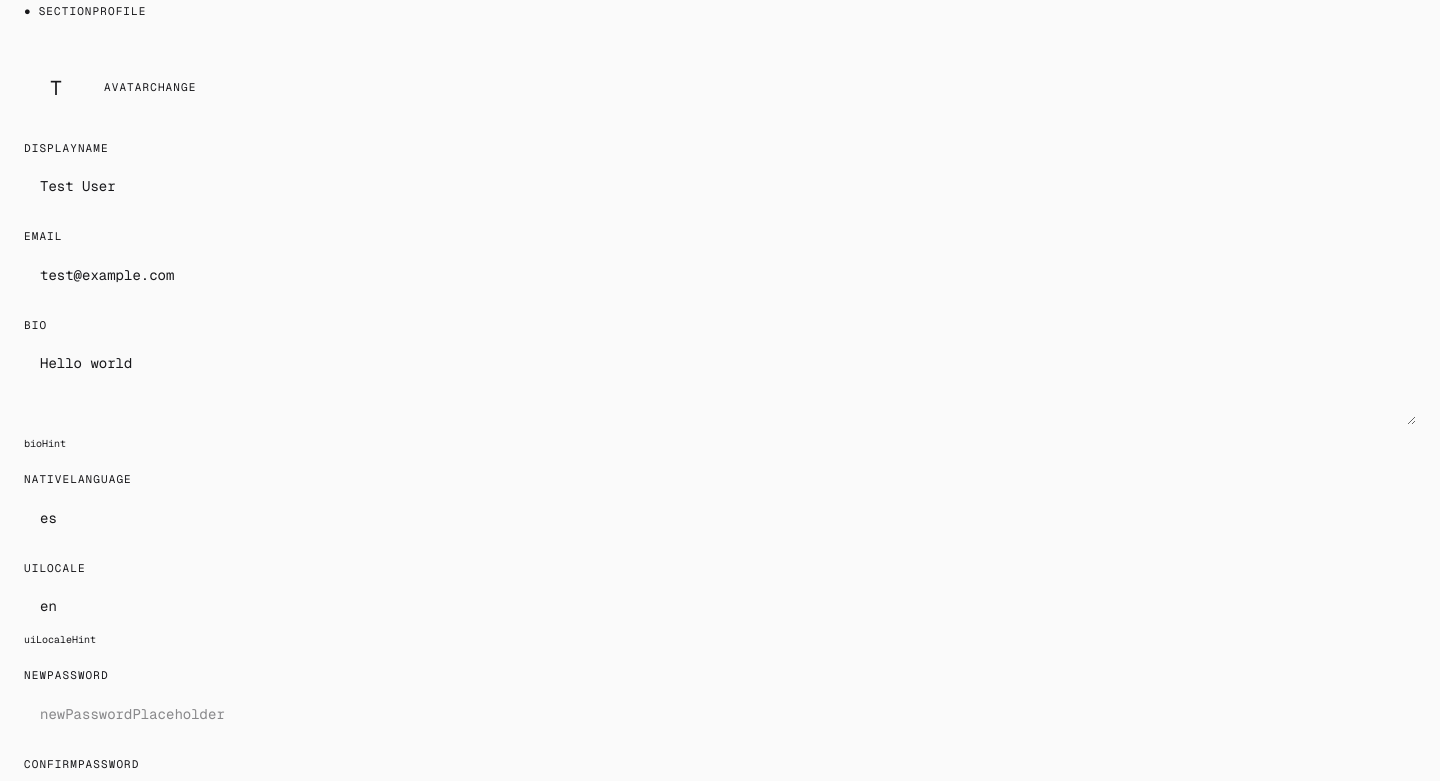
Scenario: ProfileSection › updates user in store after successful save
Replace the text in the field below "displayName" with "Updated Name" at (720, 186), box [24, 164, 1416, 208]
(page scrolled)
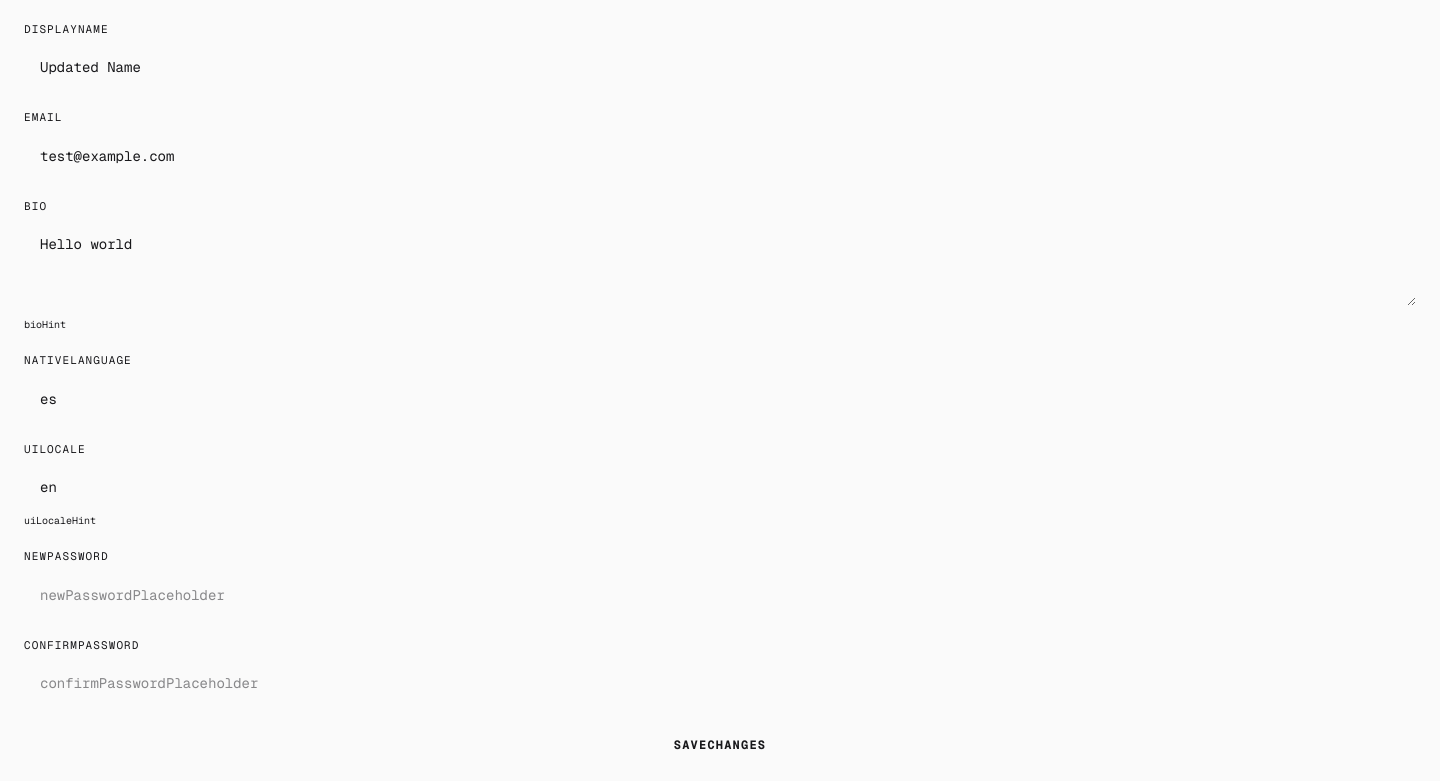
Click the button "saveChanges" at (720, 745), box [24, 725, 1416, 765]
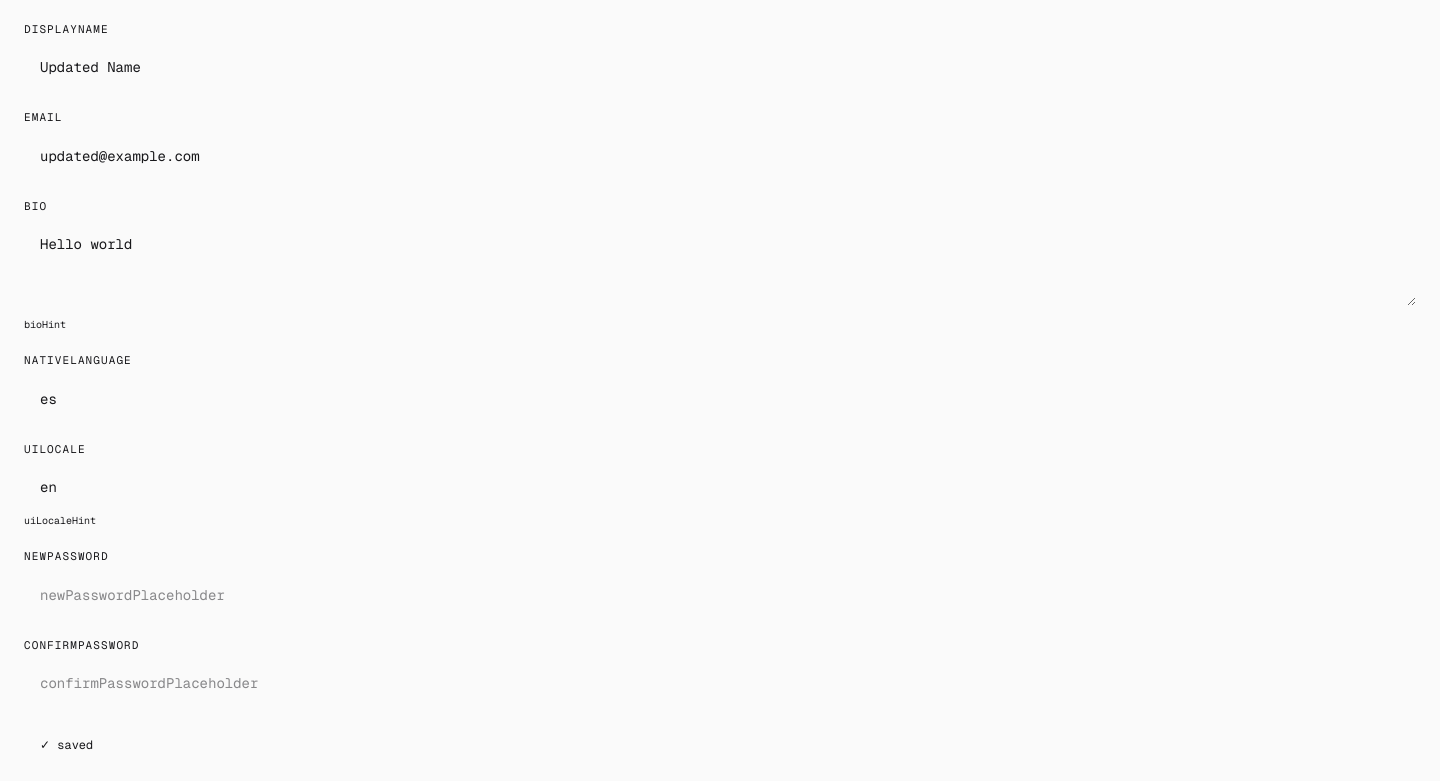
Expected: the text "✓ saved" is shown, [40, 737, 93, 753]
